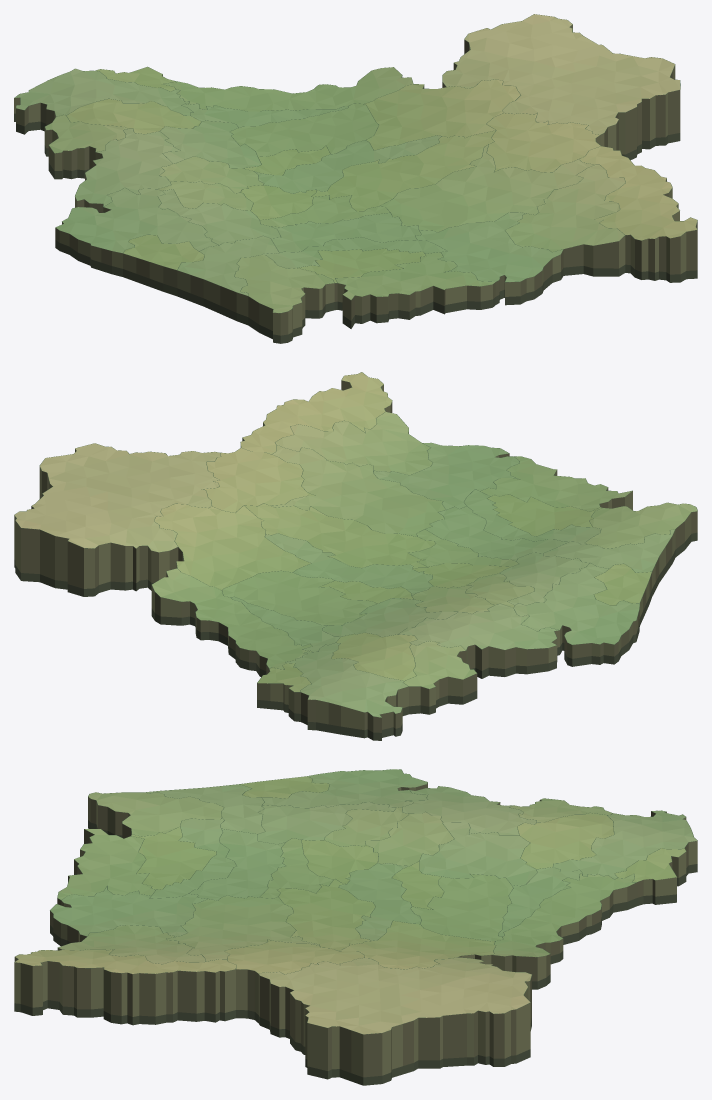
Rendered from araucania-terreno.glb.
3 views of the same model, one above another, from view 1: azimuth 30°, elevation 25°; view 2: azimuth 150°, elevation 25°; view 3: azimuth 270°, elevation 25° (orthographic). The views are drawn at different scales.
Visible parts, largest first — view 1: 09205 · Lonquimay, 09104 · Curarrehue, 09103 · Cunco, 09115 · Pucón, 09109 · Loncoche, 09102 · Carahue, 09203 · Curacautín, 09120 · Villarrica, 09118 · Toltén, 09119 · Vilcún, 09201 · Angol, 09202 · Collipulli (+20 smaller); view 2: 09205 · Lonquimay, 09103 · Cunco, 09203 · Curacautín, 09201 · Angol, 09202 · Collipulli, 09102 · Carahue, 09207 · Lumaco, 09119 · Vilcún, 09115 · Pucón, 09104 · Curarrehue, 09120 · Villarrica, 09211 · Victoria (+20 smaller); view 3: 09205 · Lonquimay, 09104 · Curarrehue, 09202 · Collipulli, 09103 · Cunco, 09120 · Villarrica, 09201 · Angol, 09211 · Victoria, 09210 · Traiguén, 09118 · Toltén, 09109 · Loncoche, 09119 · Vilcún, 09102 · Carahue (+20 smaller).
Part boxes in pixels (x1=…): 09205 · Lonquimay: x1=442, y1=14, x2=680, y2=160; 09104 · Curarrehue: x1=579, y1=146, x2=697, y2=282; 09103 · Cunco: x1=379, y1=144, x2=595, y2=232; 09115 · Pucón: x1=505, y1=165, x2=625, y2=276; 09109 · Loncoche: x1=335, y1=252, x2=495, y2=328; 09102 · Carahue: x1=55, y1=187, x2=219, y2=276; 09203 · Curacautín: x1=363, y1=79, x2=520, y2=150; 09120 · Villarrica: x1=415, y1=212, x2=563, y2=305; 09118 · Toltén: x1=234, y1=255, x2=334, y2=343; 09119 · Vilcún: x1=312, y1=130, x2=495, y2=211; 09201 · Angol: x1=14, y1=68, x2=193, y2=134; 09202 · Collipulli: x1=162, y1=67, x2=413, y2=111; 09205 · Lonquimay: x1=14, y1=443, x2=220, y2=596; 09103 · Cunco: x1=270, y1=444, x2=445, y2=536; 09203 · Curacautín: x1=154, y1=503, x2=310, y2=590; 09201 · Angol: x1=285, y1=642, x2=408, y2=740; 09202 · Collipulli: x1=151, y1=568, x2=312, y2=676; 09102 · Carahue: x1=513, y1=563, x2=639, y2=666; 09207 · Lumaco: x1=398, y1=604, x2=559, y2=678; 09119 · Vilcún: x1=244, y1=503, x2=435, y2=568; 09115 · Pucón: x1=275, y1=412, x2=432, y2=475; 09104 · Curarrehue: x1=240, y1=372, x2=392, y2=454; 09120 · Villarrica: x1=373, y1=442, x2=519, y2=509; 09211 · Victoria: x1=222, y1=571, x2=376, y2=625; 09205 · Lonquimay: x1=258, y1=957, x2=532, y2=1085; 09104 · Curarrehue: x1=14, y1=949, x2=236, y2=1025; 09202 · Collipulli: x1=491, y1=873, x2=637, y2=989; 09103 · Cunco: x1=166, y1=895, x2=319, y2=961; 09120 · Villarrica: x1=50, y1=887, x2=207, y2=946; 09201 · Angol: x1=553, y1=810, x2=697, y2=879; 09211 · Victoria: x1=410, y1=874, x2=512, y2=941; 09210 · Traiguén: x1=419, y1=822, x2=537, y2=885; 09118 · Toltén: x1=88, y1=792, x2=224, y2=838; 09109 · Loncoche: x1=57, y1=829, x2=156, y2=905; 09119 · Vilcún: x1=277, y1=879, x2=375, y2=950; 09102 · Carahue: x1=261, y1=769, x2=428, y2=808.
Size of the model in its own units: 160 by 13.82 by 156.
Materials: 1 (1 with a texture image).
